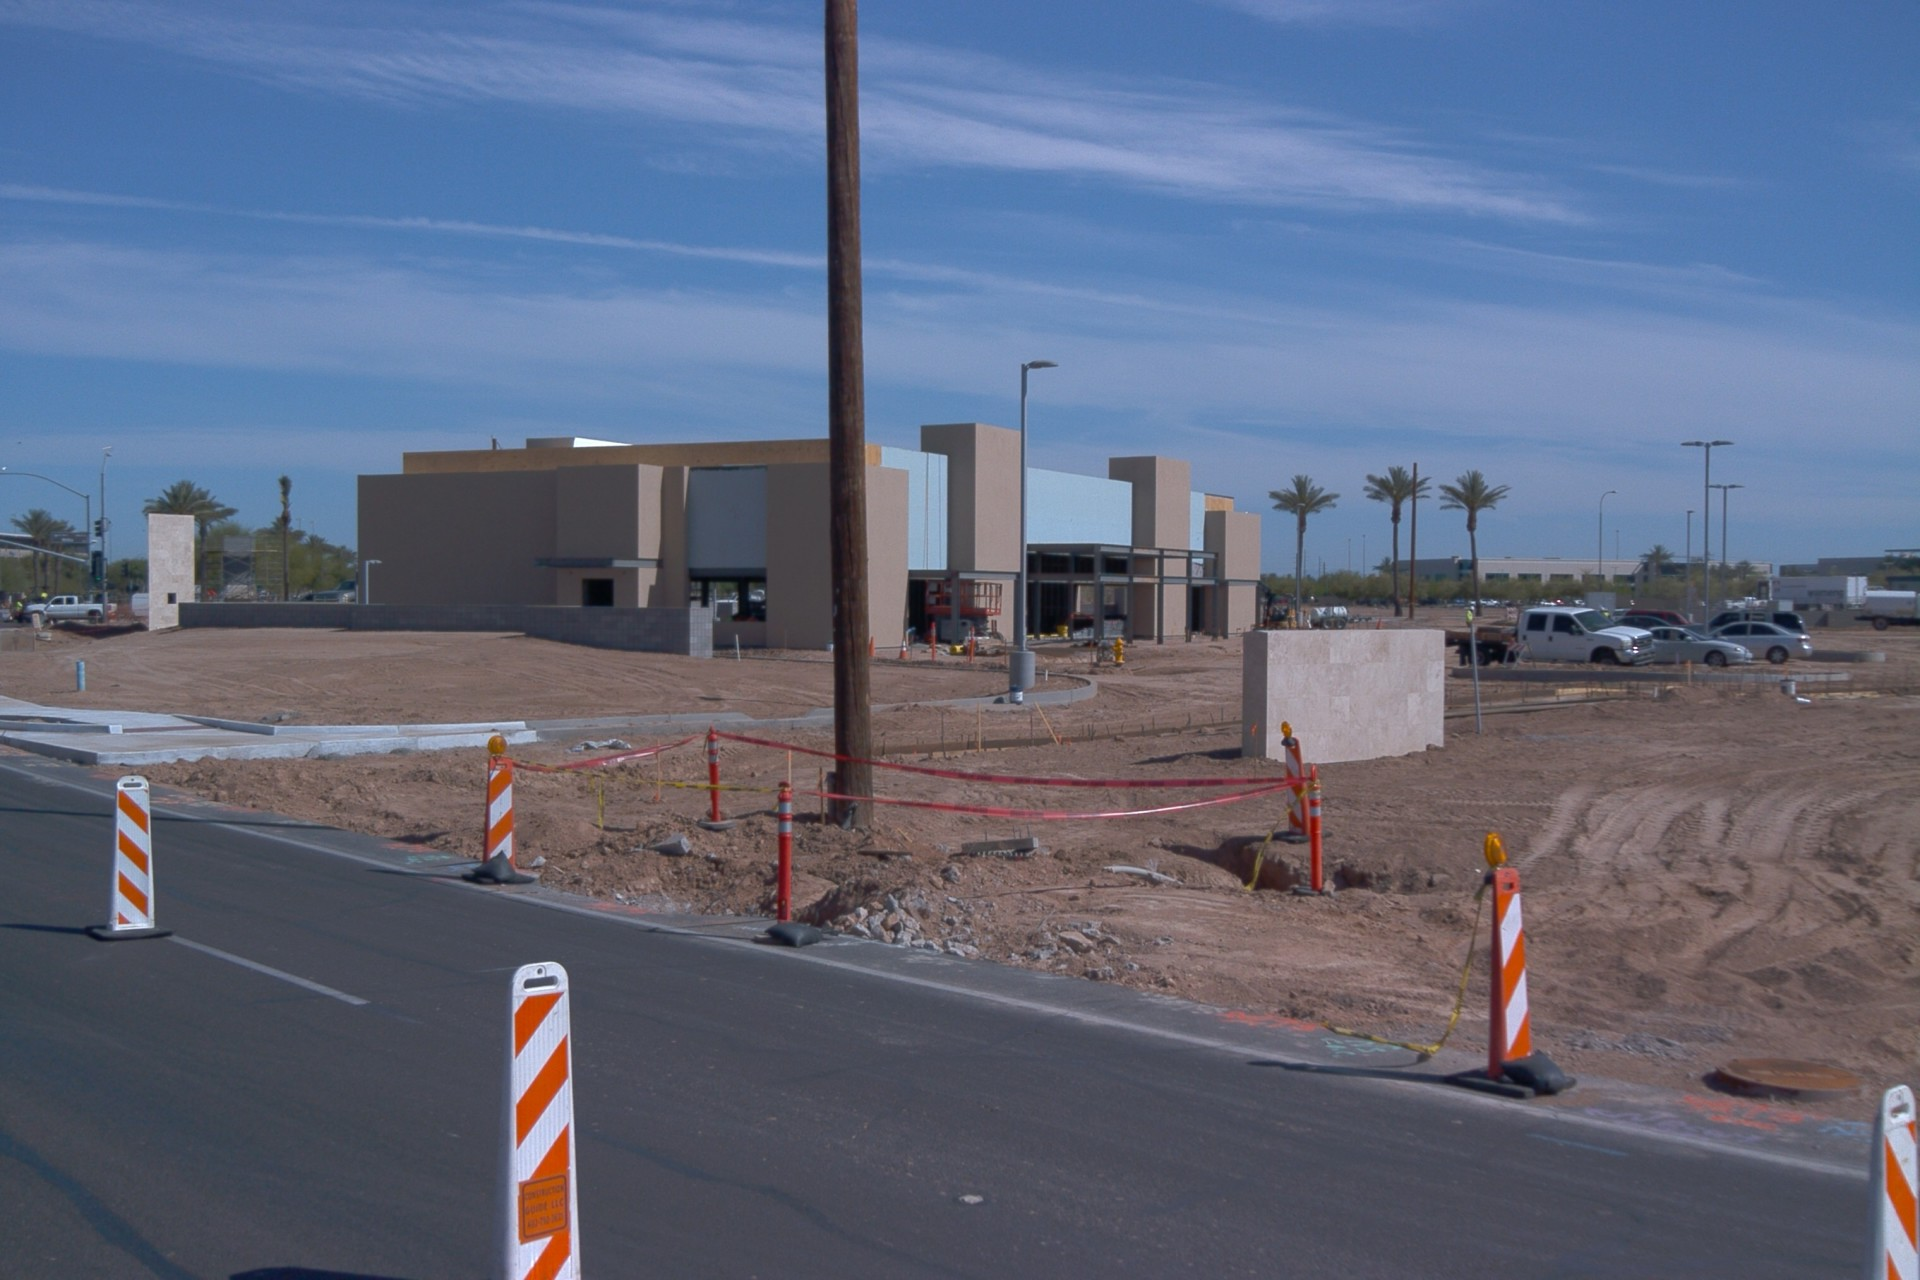TYPE_PEDESTRIAN: (1463, 603, 1476, 631), (1605, 605, 1613, 620), (17, 603, 26, 616), (1599, 606, 1607, 618)
TYPE_VEHICLE: (1439, 609, 1659, 672), (1701, 617, 1814, 666), (1664, 608, 1812, 642), (1642, 622, 1752, 667), (23, 592, 116, 625), (1852, 586, 1920, 631), (1308, 602, 1371, 629), (308, 579, 360, 604), (716, 588, 765, 614), (1624, 608, 1687, 627), (732, 598, 769, 621), (128, 591, 146, 622), (32, 584, 55, 603), (291, 588, 315, 606), (1610, 609, 1633, 621), (1480, 596, 1501, 607), (1466, 597, 1474, 605)
